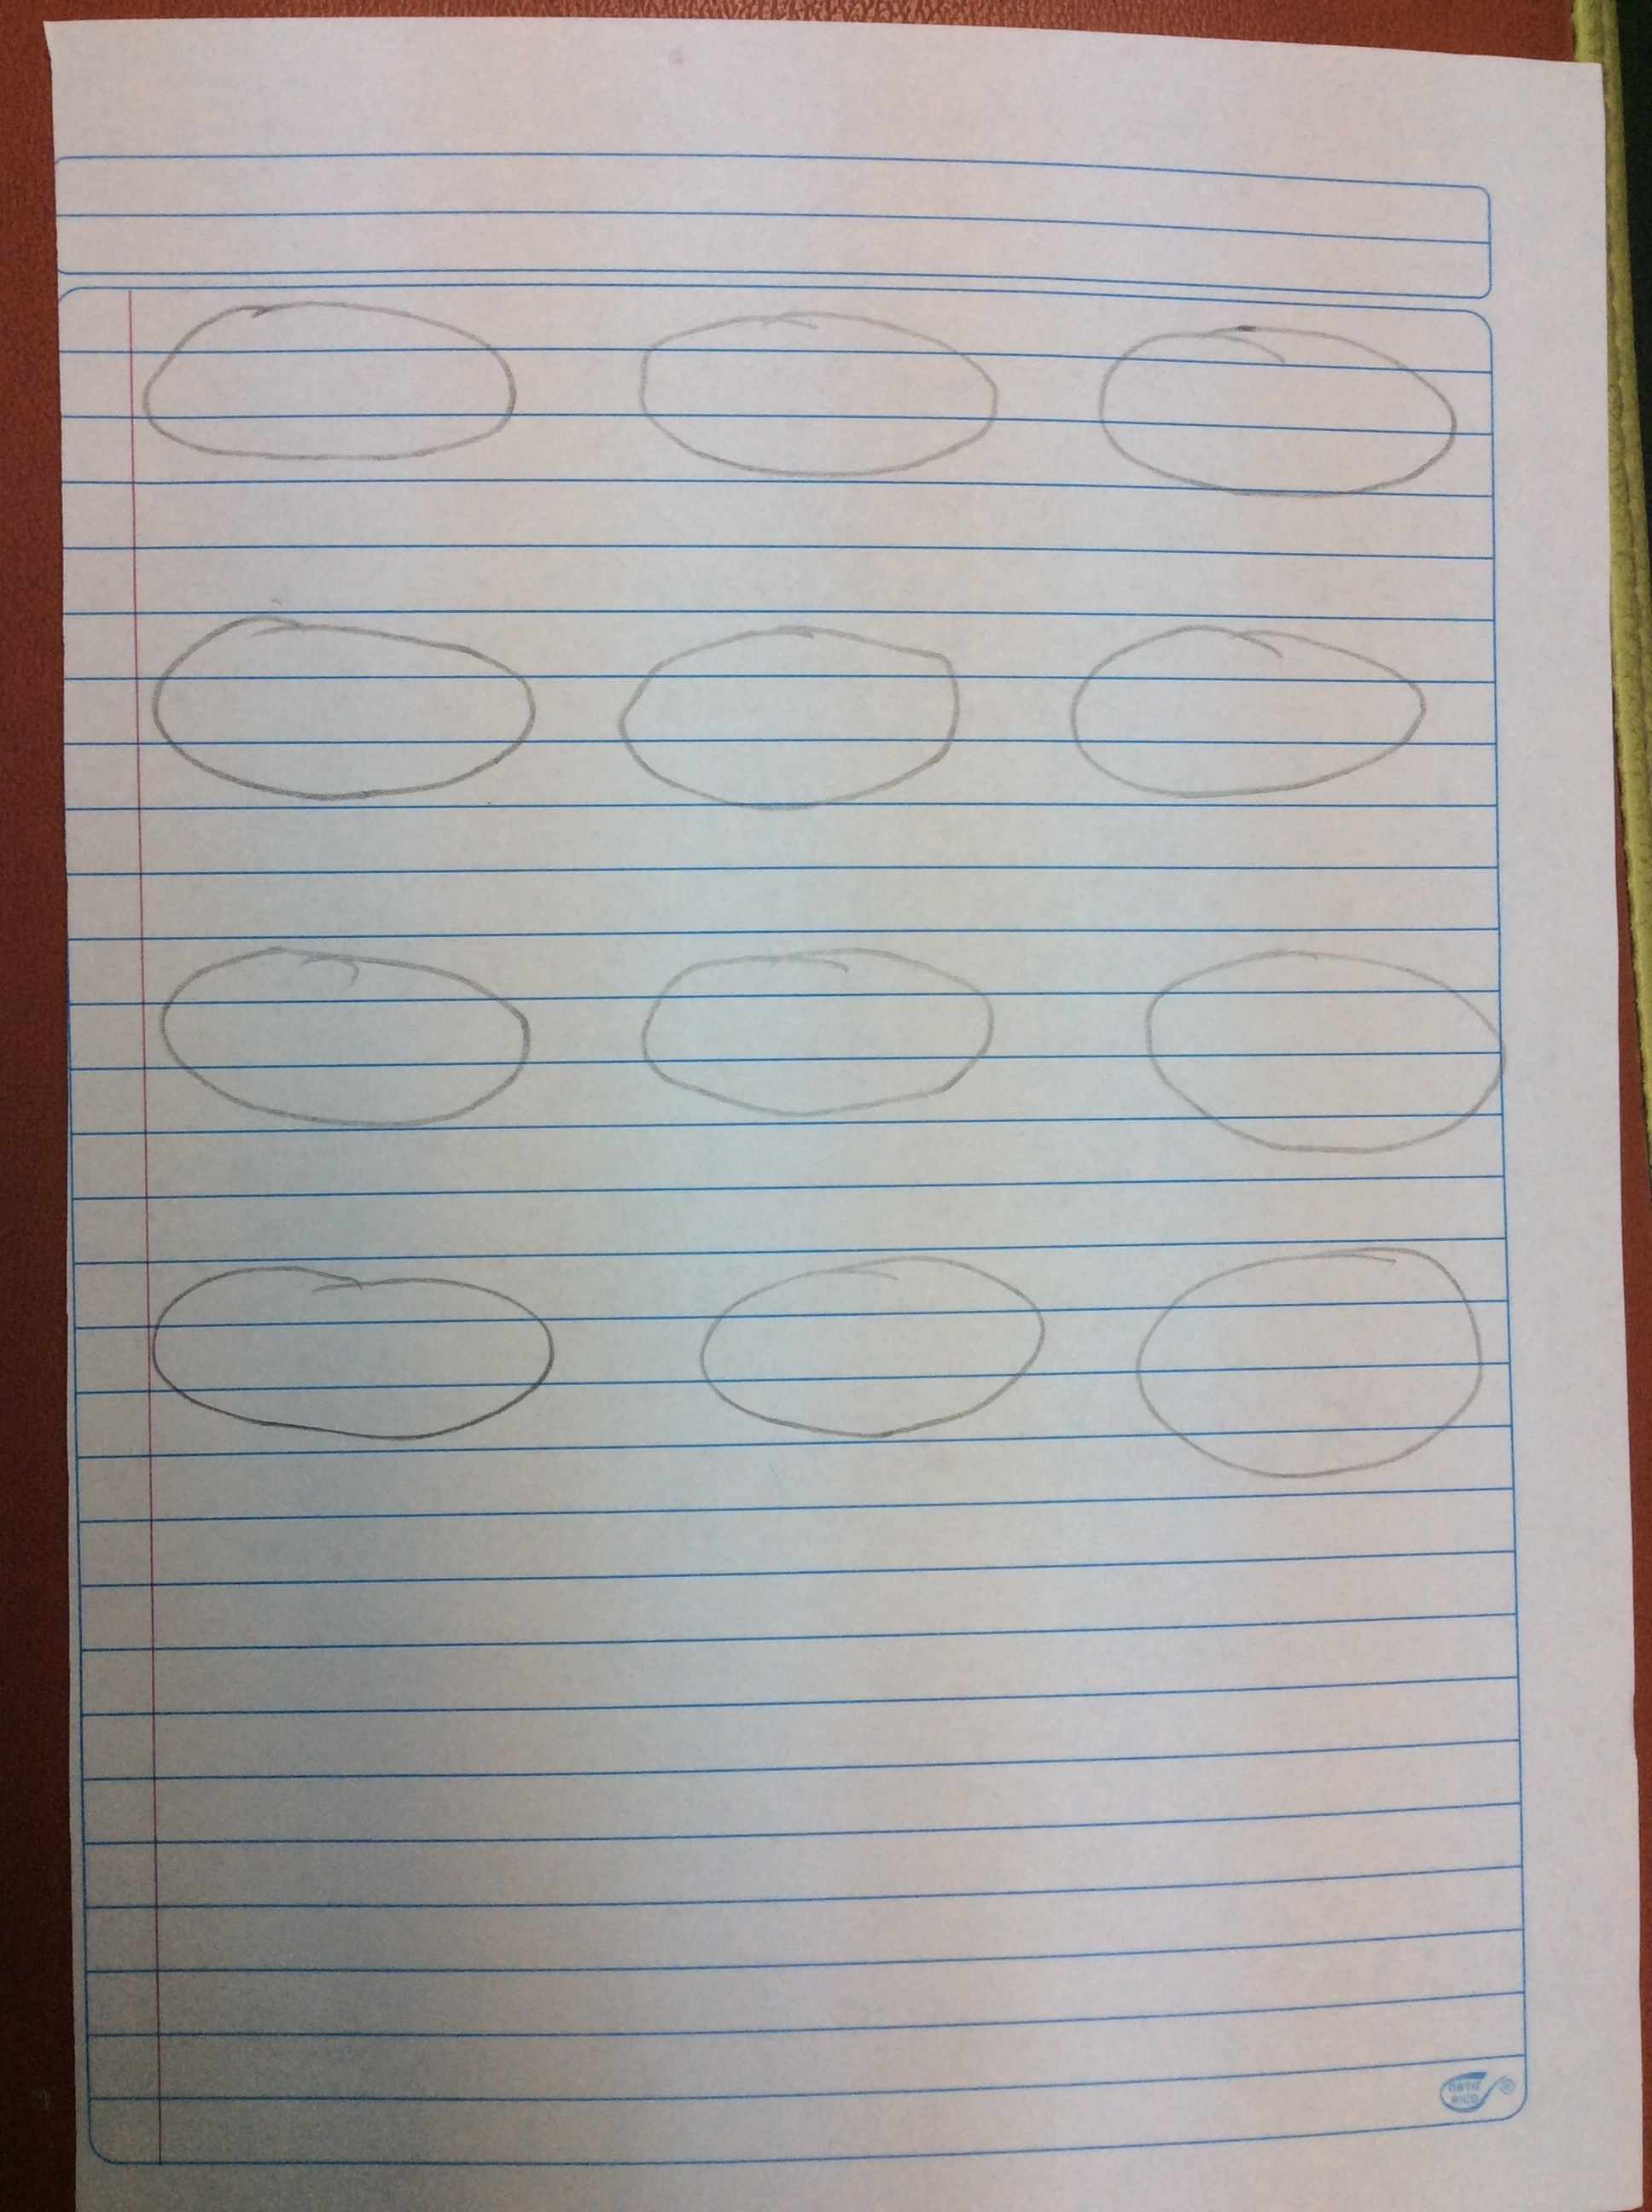start_end: (644, 1214, 1064, 1513), (1124, 1214, 1498, 1523), (1100, 925, 1527, 1185), (128, 1242, 578, 1482), (1067, 283, 1498, 512), (592, 579, 980, 833), (135, 593, 545, 822), (1039, 593, 1449, 819), (146, 932, 562, 1150), (613, 921, 1022, 1140), (128, 276, 531, 488), (630, 276, 1012, 498)
